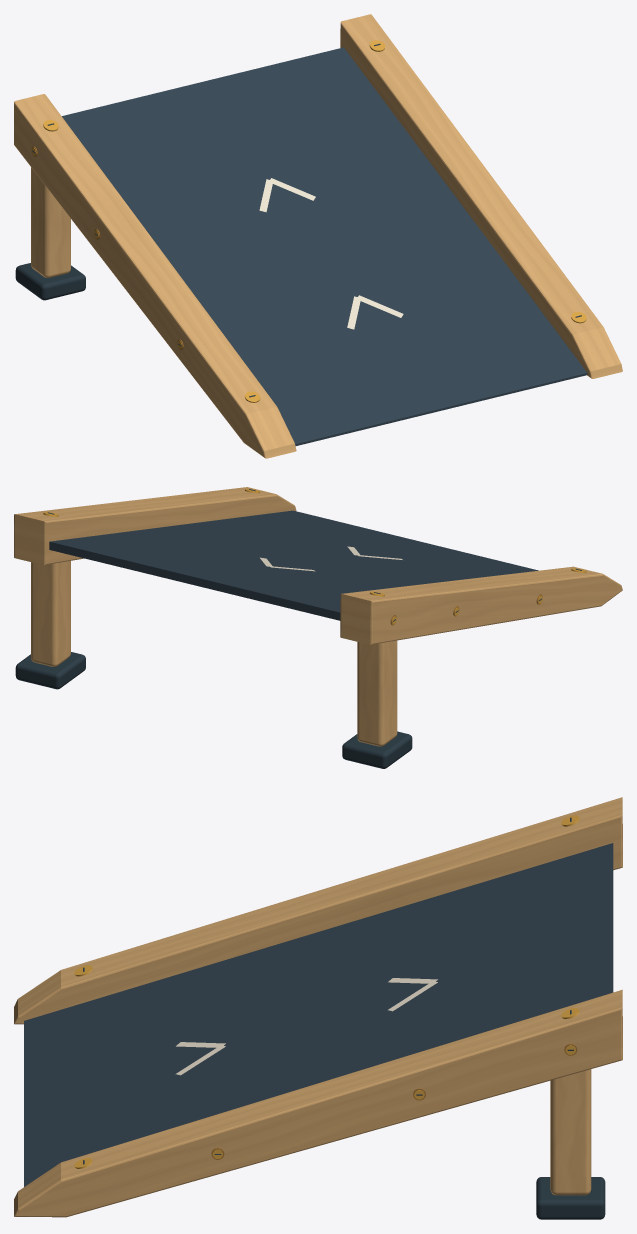
File: play-ramp.glb
3 views of the same model, one above another, from view 1: azimuth 30°, elevation 25°; view 2: azimuth 150°, elevation 25°; view 3: azimuth 270°, elevation 25° (orthographic). The views are drawn at different scales.
Parts seen in each view (by area): view 1: Ramp_Driving_Surface, Ramp_Wood_Rail_Left, Ramp_Wood_Rail_Right, Ramp_Rear_Support_Left, Ramp_Rear_Foot_Left; view 2: Ramp_Driving_Surface, Ramp_Wood_Rail_Left, Ramp_Wood_Rail_Right, Ramp_Rear_Support_Left, Ramp_Rear_Support_Right, Ramp_Rear_Foot_Left, Ramp_Rear_Foot_Right; view 3: Ramp_Driving_Surface, Ramp_Wood_Rail_Right, Ramp_Wood_Rail_Left, Ramp_Rear_Support_Right, Ramp_Rear_Foot_Right.
Boxes of the visible parts, box(x1,y1,x2,y2) form: Ramp_Driving_Surface: box(62, 47, 587, 445); Ramp_Wood_Rail_Left: box(14, 94, 296, 458); Ramp_Wood_Rail_Right: box(340, 14, 622, 378); Ramp_Rear_Support_Left: box(31, 167, 70, 277); Ramp_Rear_Foot_Left: box(15, 263, 85, 300); Ramp_Driving_Surface: box(49, 510, 538, 620); Ramp_Wood_Rail_Left: box(340, 566, 622, 644); Ramp_Wood_Rail_Right: box(14, 487, 296, 565); Ramp_Rear_Support_Left: box(357, 640, 397, 746); Ramp_Rear_Support_Right: box(31, 561, 70, 666); Ramp_Rear_Foot_Left: box(342, 731, 412, 768); Ramp_Rear_Foot_Right: box(15, 652, 85, 689); Ramp_Driving_Surface: box(24, 843, 613, 1186); Ramp_Wood_Rail_Right: box(14, 989, 622, 1217); Ramp_Wood_Rail_Left: box(14, 797, 622, 1024); Ramp_Rear_Support_Right: box(550, 1069, 591, 1195); Ramp_Rear_Foot_Right: box(536, 1177, 605, 1219).
Bounding box in the file's own units: 0.33 × 0.1476 × 0.3876.
Materials: 7 (1 with a texture image).
